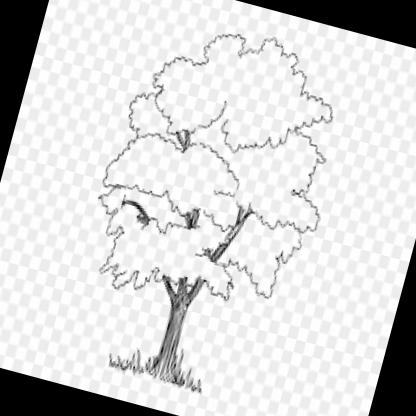crown_dizzy: (74, 4, 364, 334)
root_none: (120, 345, 201, 394)
trunk_bark: (154, 306, 194, 353)
